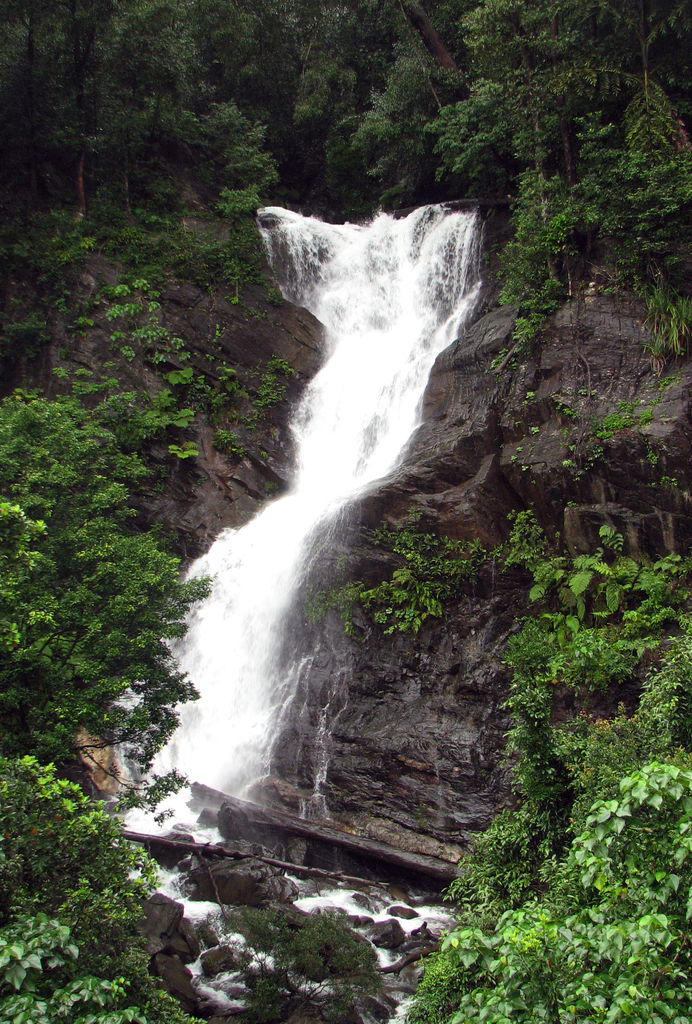Tree: (0, 0, 691, 287), (300, 517, 689, 1020), (0, 390, 212, 1018)
